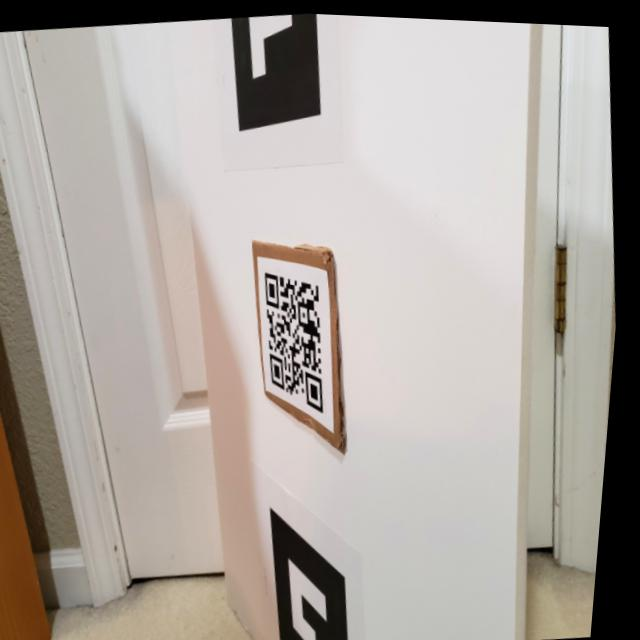QR_CODE: (255, 255, 349, 425)
